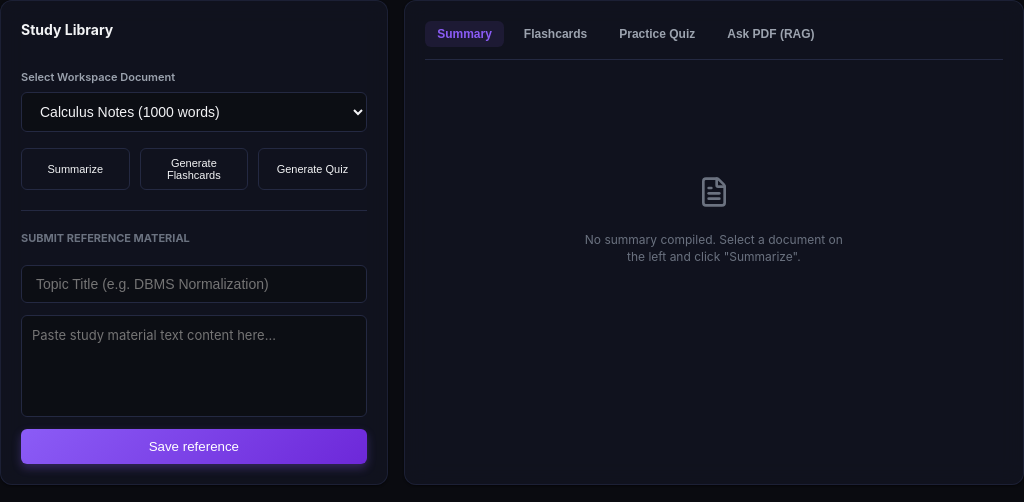
DocumentsView › allows searching using RAG query
Switch to RAG tab
Click the button "Ask PDF (RAG)" at (770, 34), box [715,21,826,47]
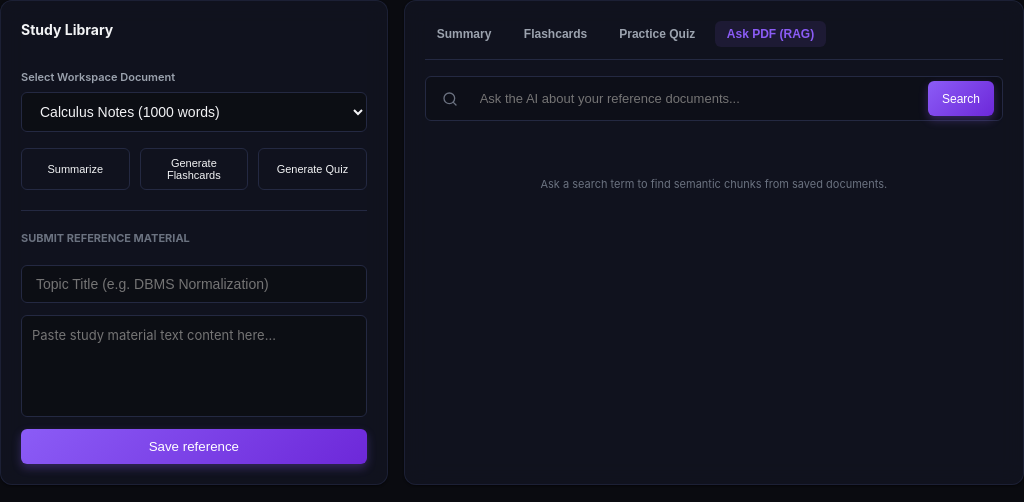
Type query
Type "derivative definition" into the field with placeholder "Ask the AI about your reference documents..." at (697, 98), box [466,81,928,116]
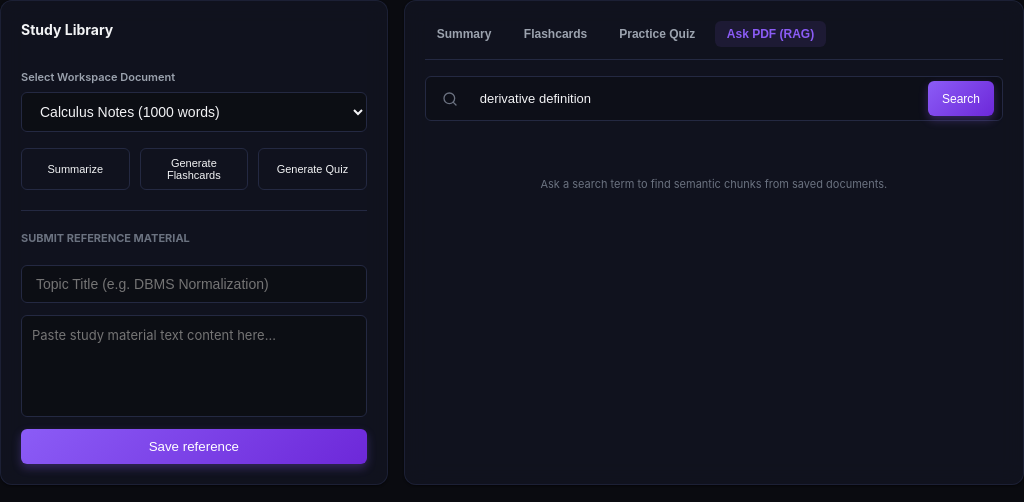
Click the button "Search" at (961, 98), box [928,81,994,116]
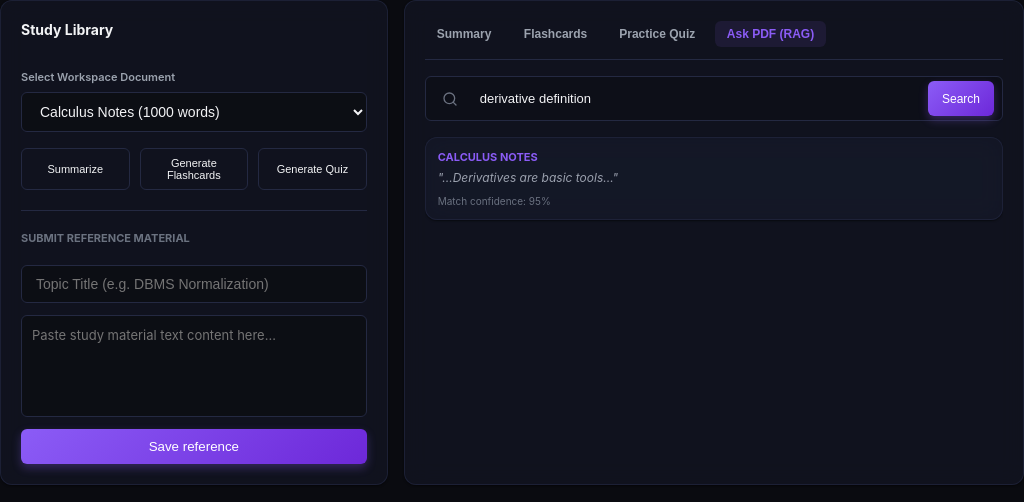
Now the text "Calculus Notes" is shown, box [438,150,538,164]
Now the text "\"...Derivatives are basic tools...\"" is shown, box [438,170,618,185]
